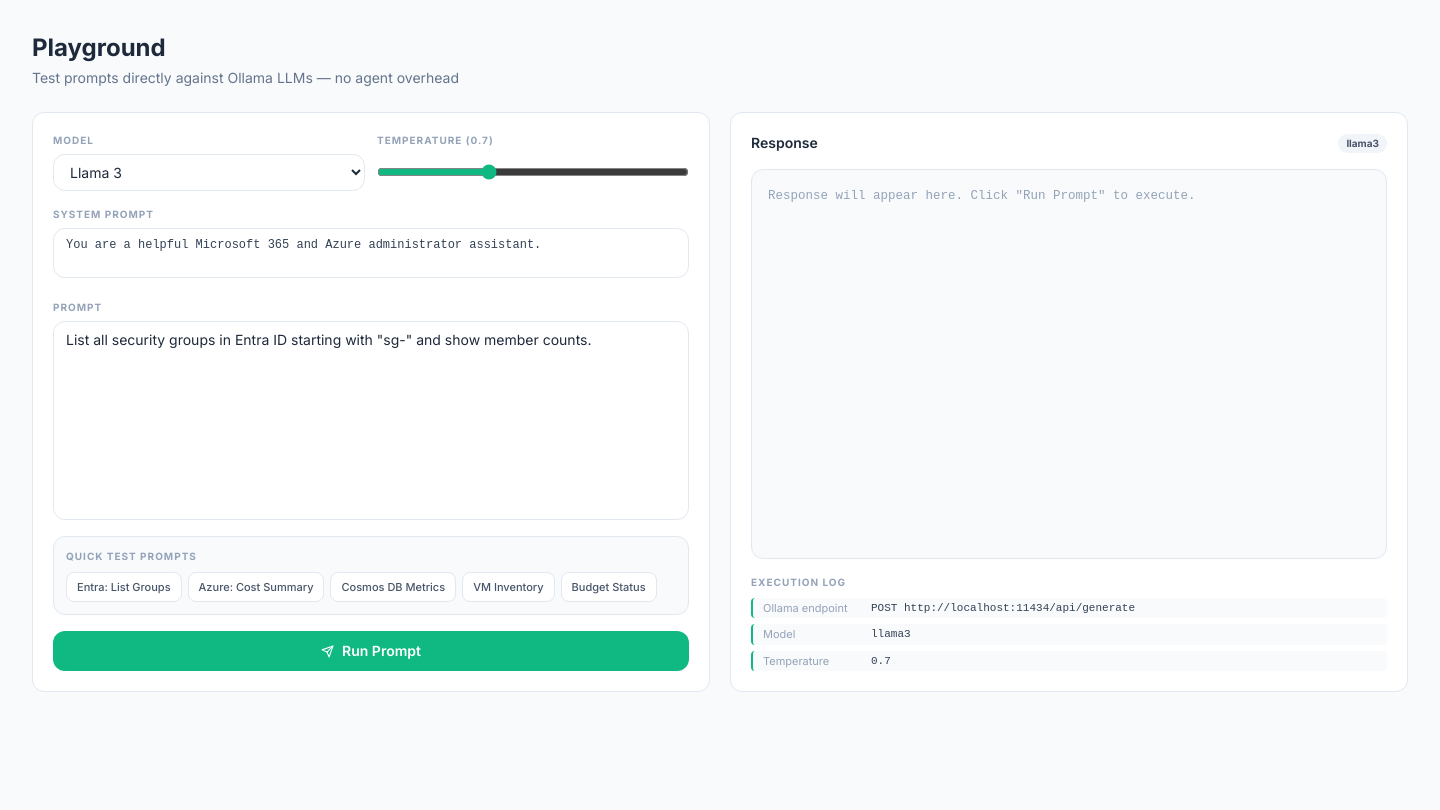
Test: PlaygroundPage › submit button disabled when prompt is empty
// Clear the default prompt
Clear the 2nd text box showing "list all security groups" at (371, 420), box [53, 321, 689, 520]
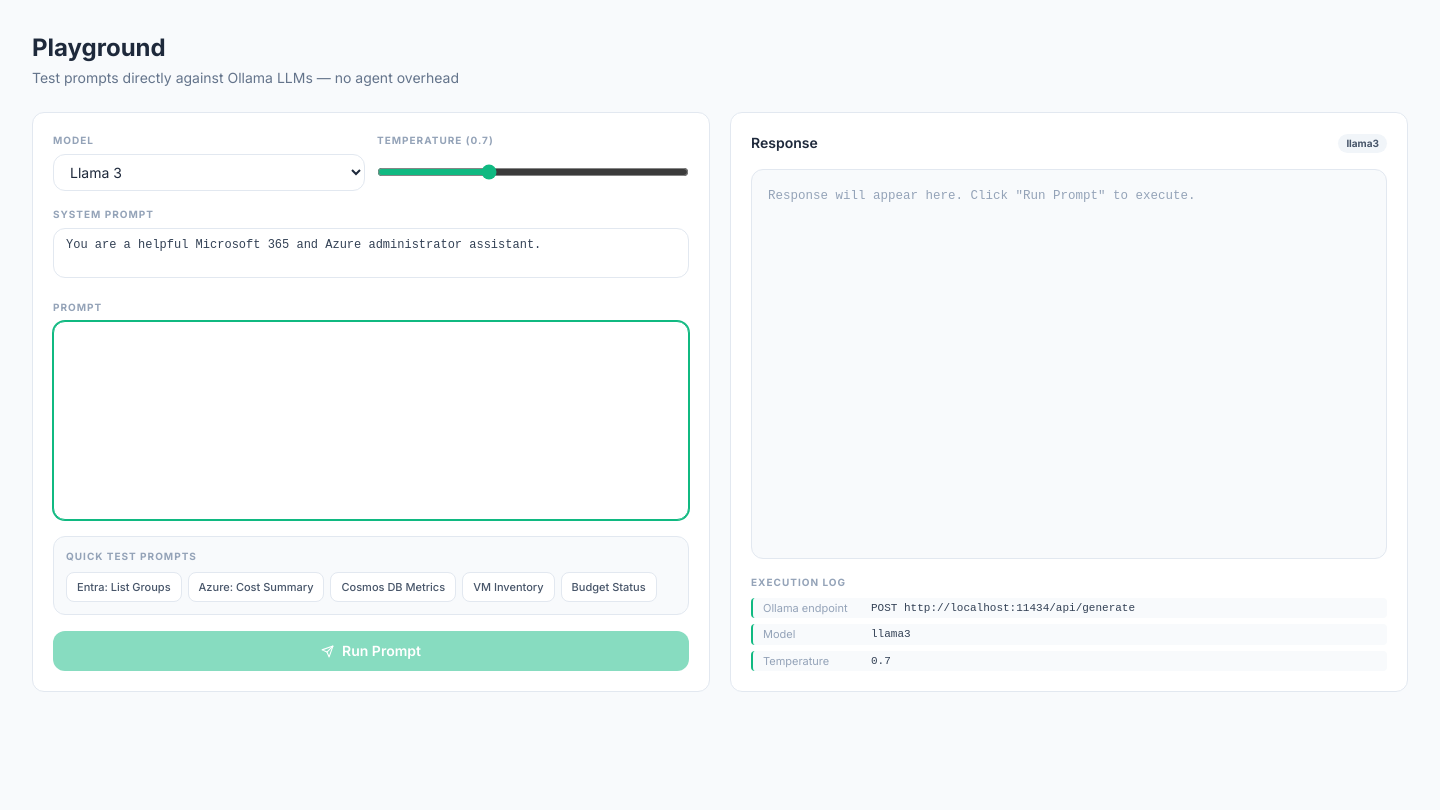
Result: the button "Run Prompt" is disabled at [53, 631, 689, 671]
